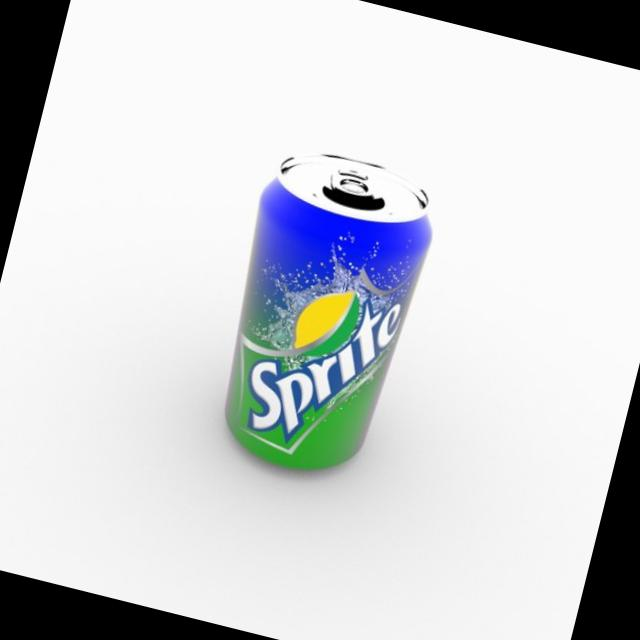sprite: (191, 132, 447, 498)
